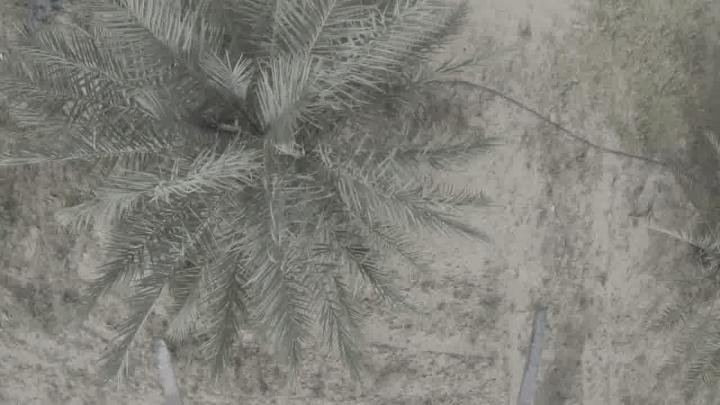Date-Palm-Crown: (95, 0, 383, 290), (678, 187, 720, 297)
